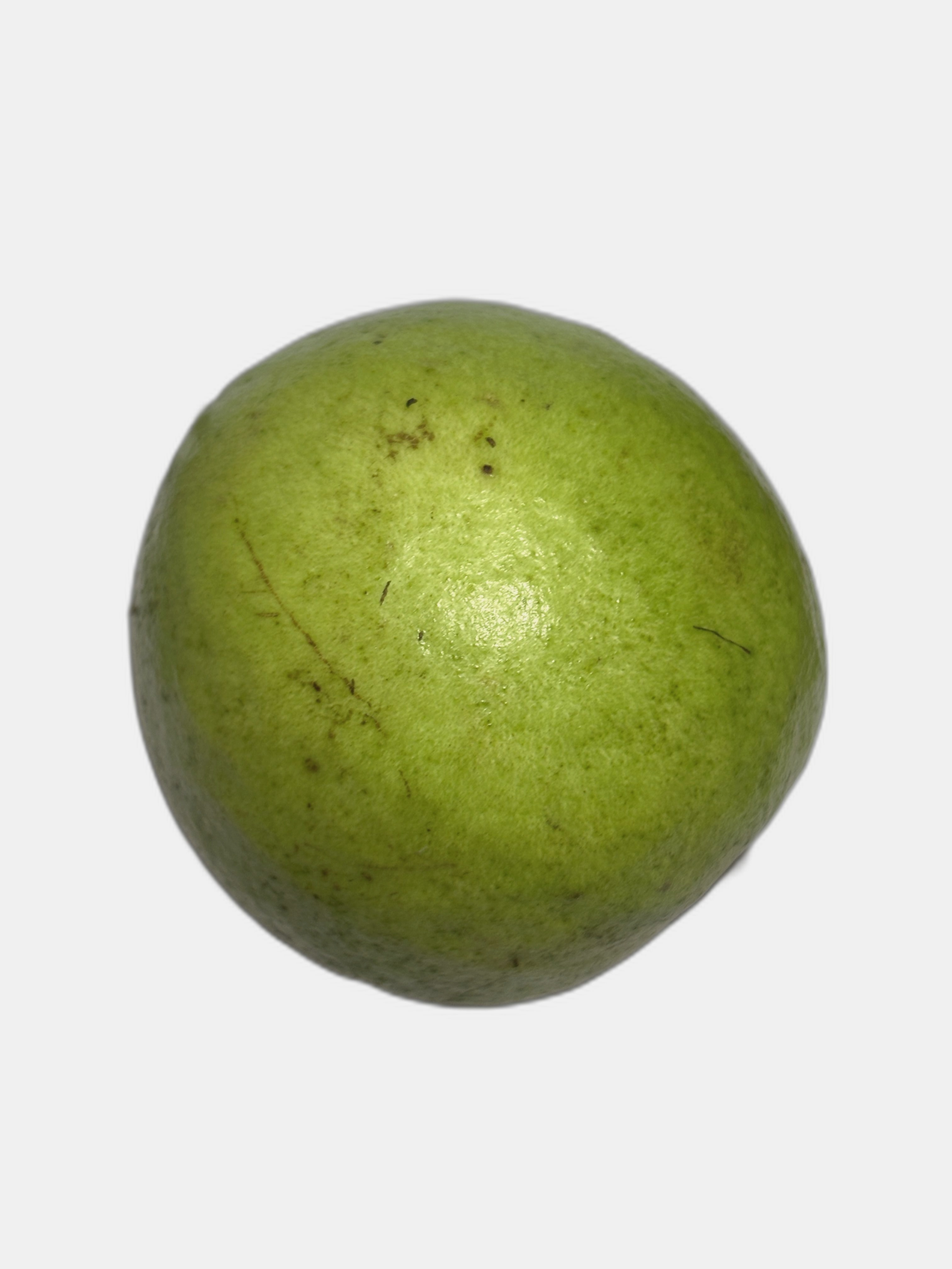guava: (73, 32, 692, 1108)
